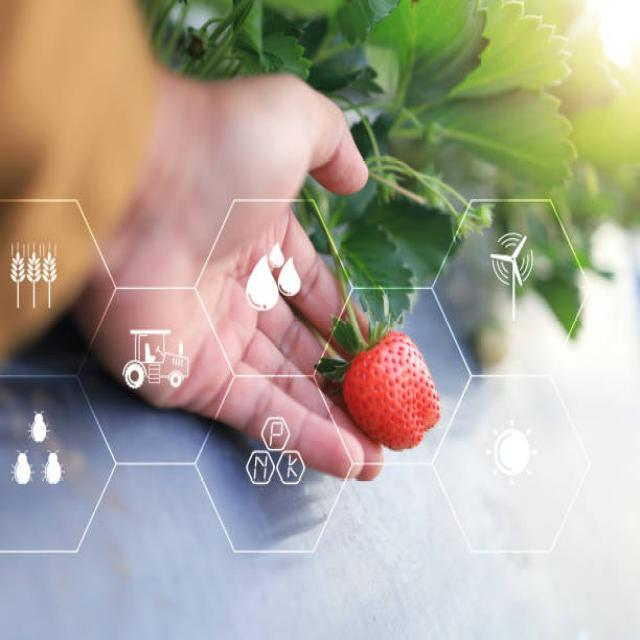Healthy Fruit: (342, 329, 441, 455)
